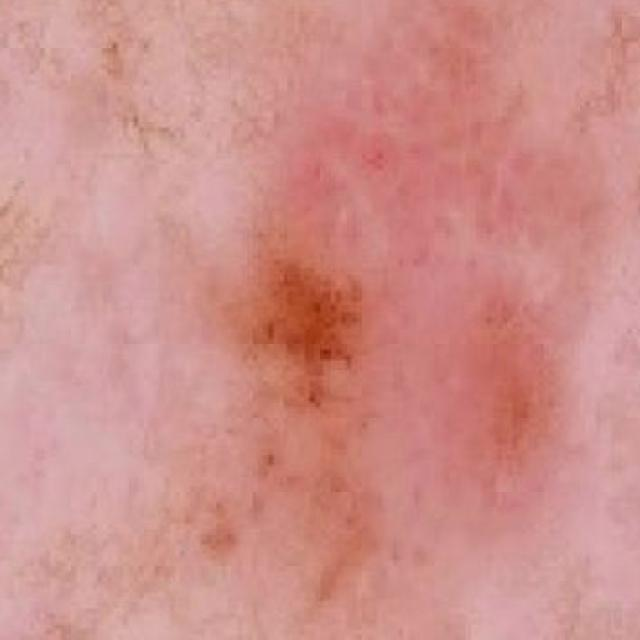AKIEC: (120, 0, 640, 623)
